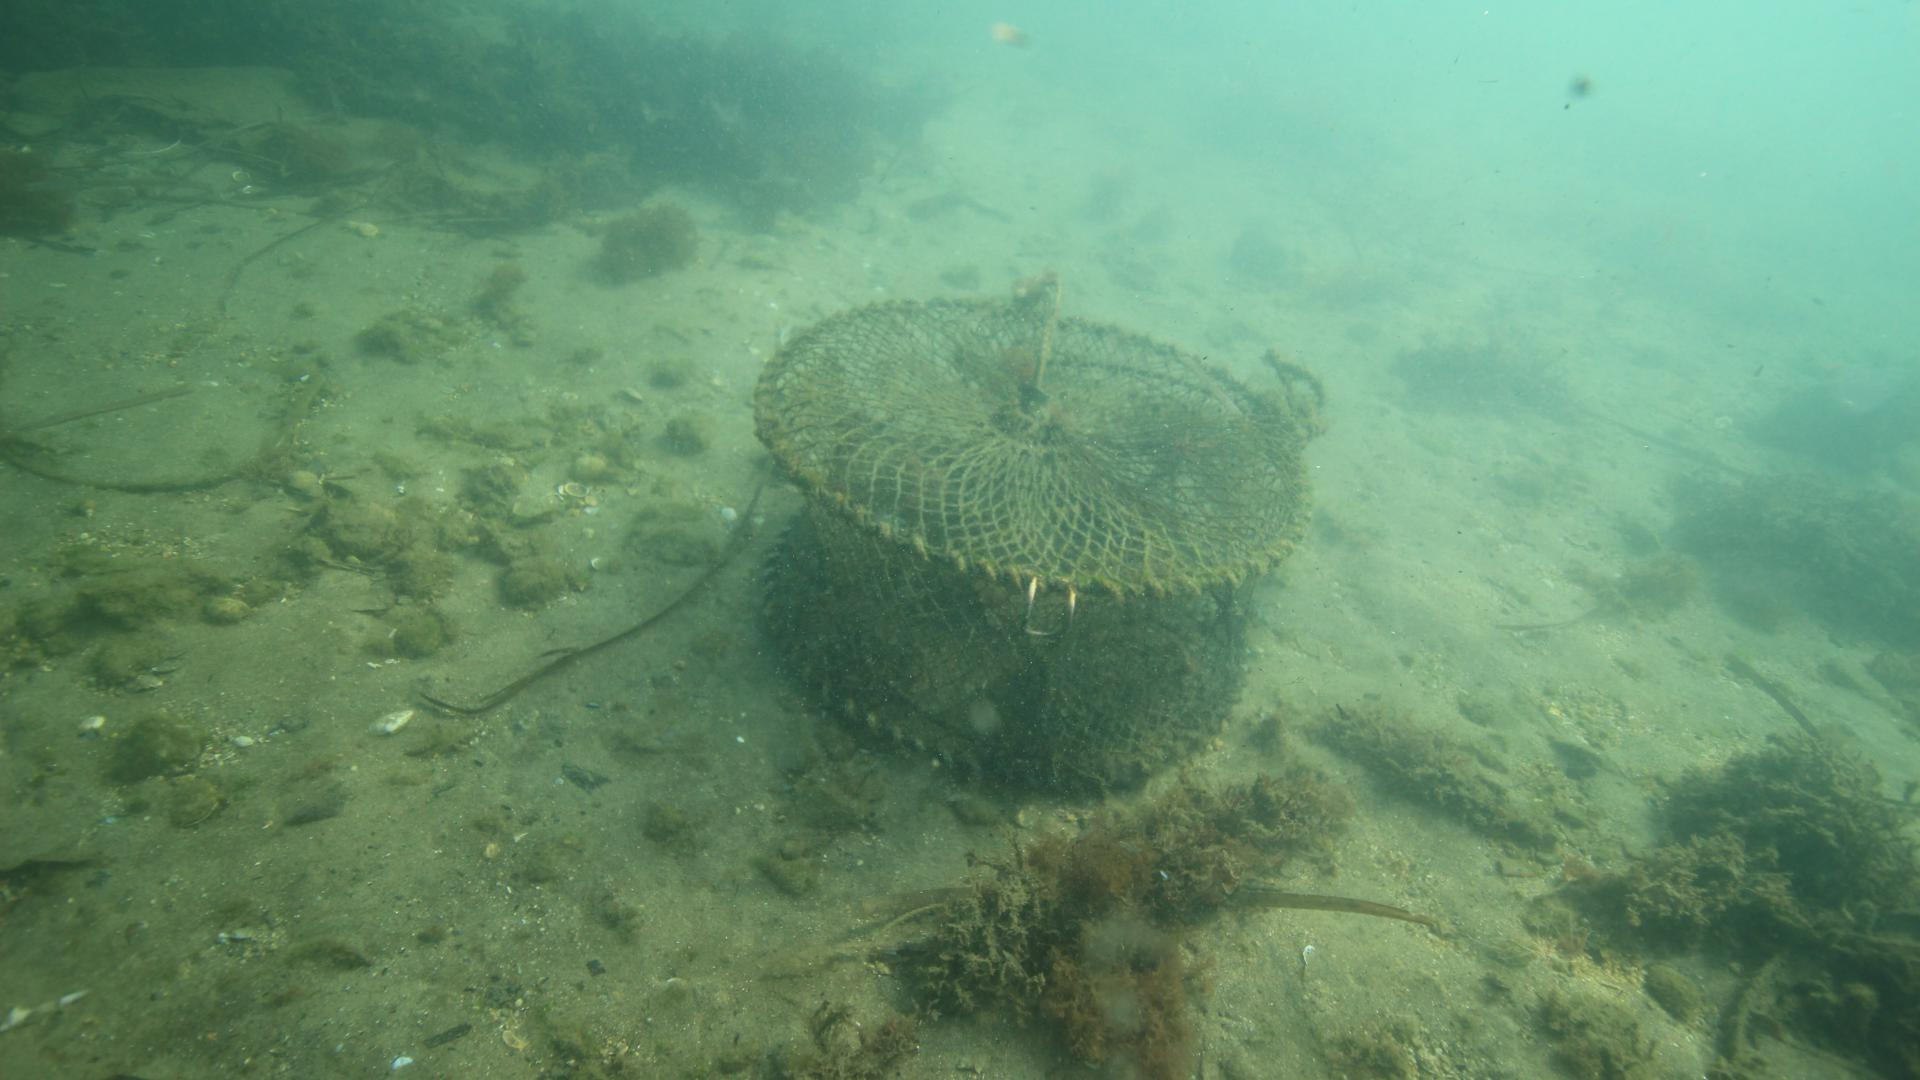circular fish trap: (748, 295, 1315, 798)
